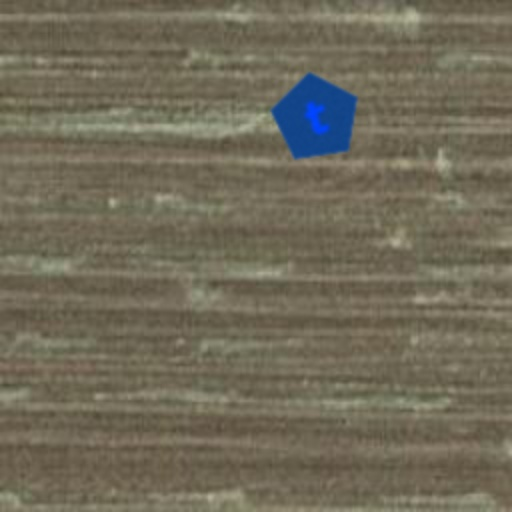pentagon: (252, 54, 380, 182)
